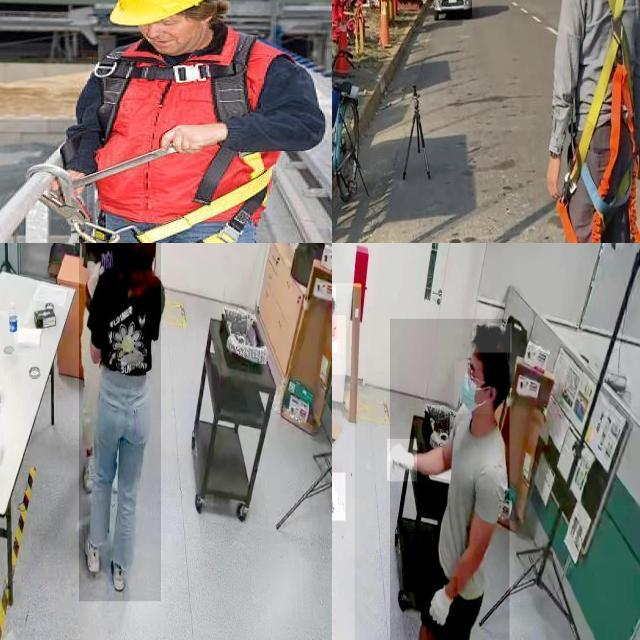Harness: (85, 33, 280, 243), (562, 0, 640, 243)
face_mask: (455, 360, 495, 414), (332, 315, 346, 374)
hand_glove: (426, 577, 458, 636), (387, 439, 417, 481), (332, 472, 345, 520)
head_nohelmet: (472, 324, 512, 354)
person: (390, 319, 510, 640), (78, 243, 161, 602), (332, 283, 355, 640)
shoes: (109, 549, 130, 595), (82, 530, 101, 580), (80, 442, 98, 492)
